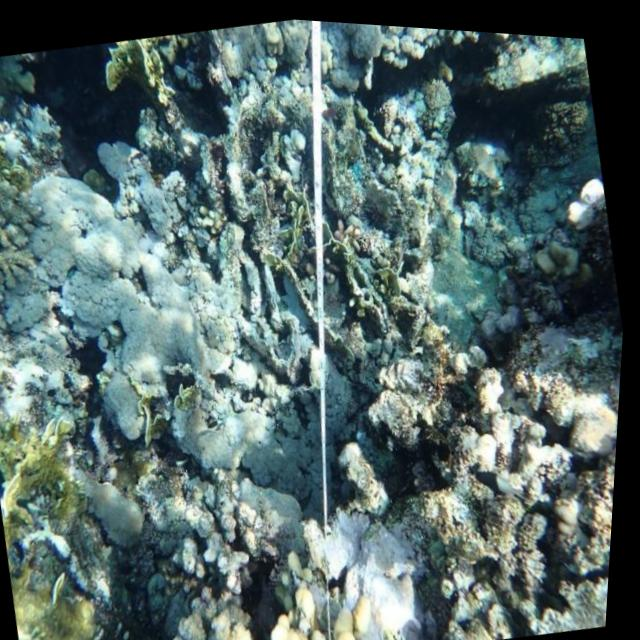Bleached Coral: (11, 132, 240, 453), (146, 312, 370, 577), (302, 491, 441, 640)
